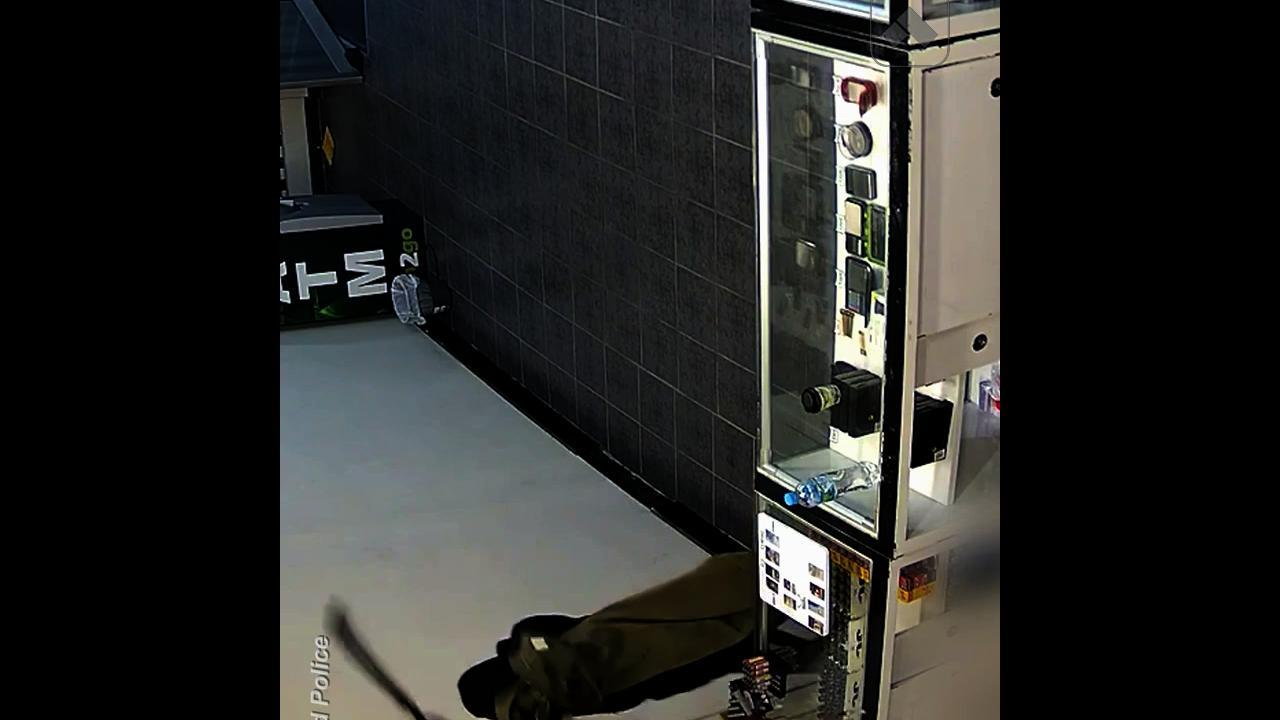melee: (317, 597, 461, 720)
